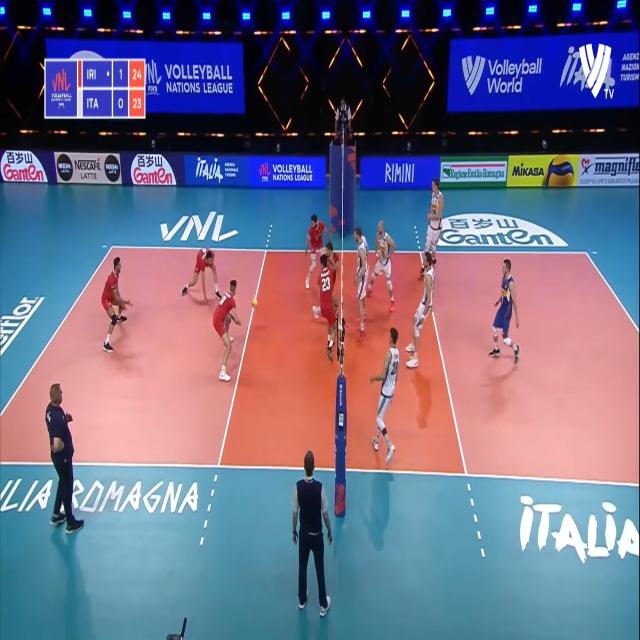player: (370, 327, 399, 468), (102, 253, 132, 359), (492, 258, 520, 368), (214, 276, 240, 385), (369, 220, 396, 311), (408, 254, 429, 368), (352, 227, 372, 343), (304, 215, 334, 291), (183, 247, 221, 304), (318, 255, 338, 360), (427, 182, 444, 262), (324, 240, 338, 294)
